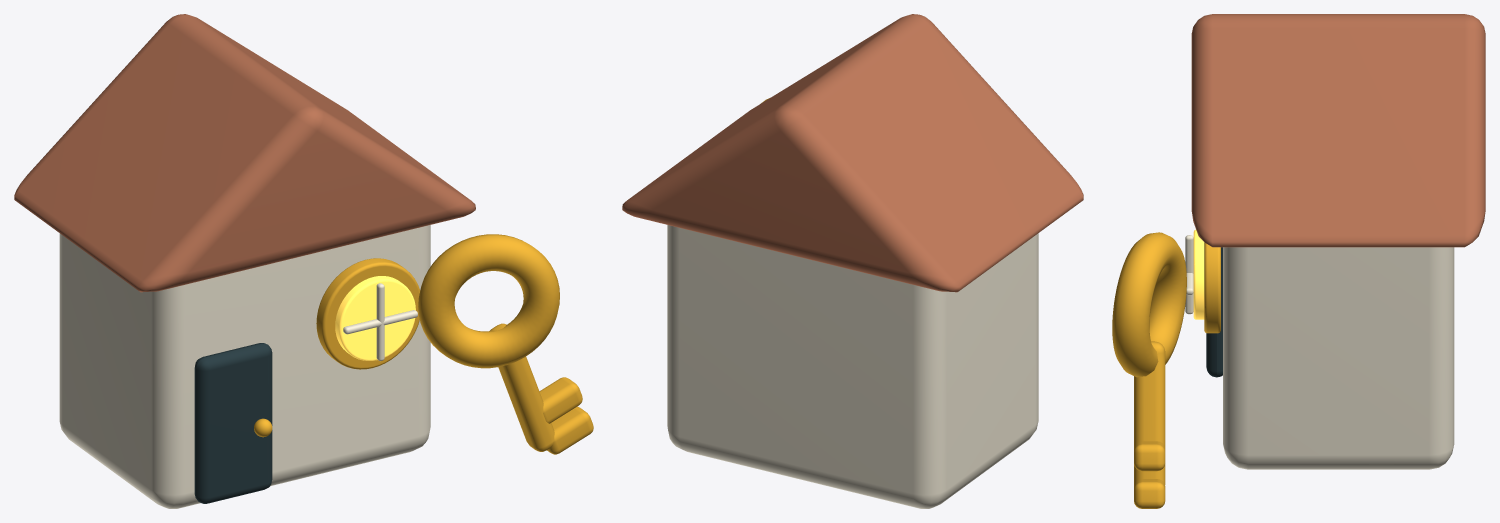
Rendered from house-key.glb.
3 renders of one model, left to right at view 1: azimuth 30°, elevation 25°; view 2: azimuth 150°, elevation 25°; view 3: azimuth 270°, elevation 25°, orthographic. The views are drawn at different scales.
Visible parts, largest first — view 1: Terracotta pitched roof, Cream house, Key bow, Front door, Round warm window, Round window gold surround, Key shaft, Key tooth, Key tooth.001, Round window cross vertical; view 2: Cream house, Terracotta pitched roof; view 3: Terracotta pitched roof, Cream house, Key bow, Key shaft, Round window gold surround, Round warm window, Key tooth, Key tooth.001, Front door, Round window cross vertical.
Boxes of the visible parts, left/top/right/bottom form: Terracotta pitched roof: left=14, top=14, right=475, bottom=292; Cream house: left=59, top=225, right=430, bottom=508; Key bow: left=418, top=234, right=559, bottom=368; Front door: left=194, top=343, right=272, bottom=503; Round warm window: left=335, top=276, right=415, bottom=360; Round window gold surround: left=316, top=258, right=420, bottom=369; Key shaft: left=490, top=323, right=554, bottom=451; Key tooth: left=539, top=377, right=582, bottom=423; Key tooth.001: left=547, top=406, right=593, bottom=454; Round window cross vertical: left=376, top=283, right=384, bottom=361; Cream house: left=667, top=225, right=1038, bottom=508; Terracotta pitched roof: left=622, top=14, right=1083, bottom=292; Terracotta pitched roof: left=1191, top=14, right=1485, bottom=247; Cream house: left=1223, top=247, right=1454, bottom=469; Key bow: left=1112, top=232, right=1186, bottom=377; Key shaft: left=1134, top=341, right=1165, bottom=484; Round window gold surround: left=1204, top=242, right=1220, bottom=333; Round warm window: left=1193, top=229, right=1204, bottom=319; Key tooth: left=1134, top=441, right=1165, bottom=471; Key tooth.001: left=1134, top=479, right=1165, bottom=508; Front door: left=1206, top=247, right=1222, bottom=377; Round window cross vertical: left=1185, top=235, right=1193, bottom=314.
Bounding box in the file's own units: 4.18 × 3.66 × 3.16.
